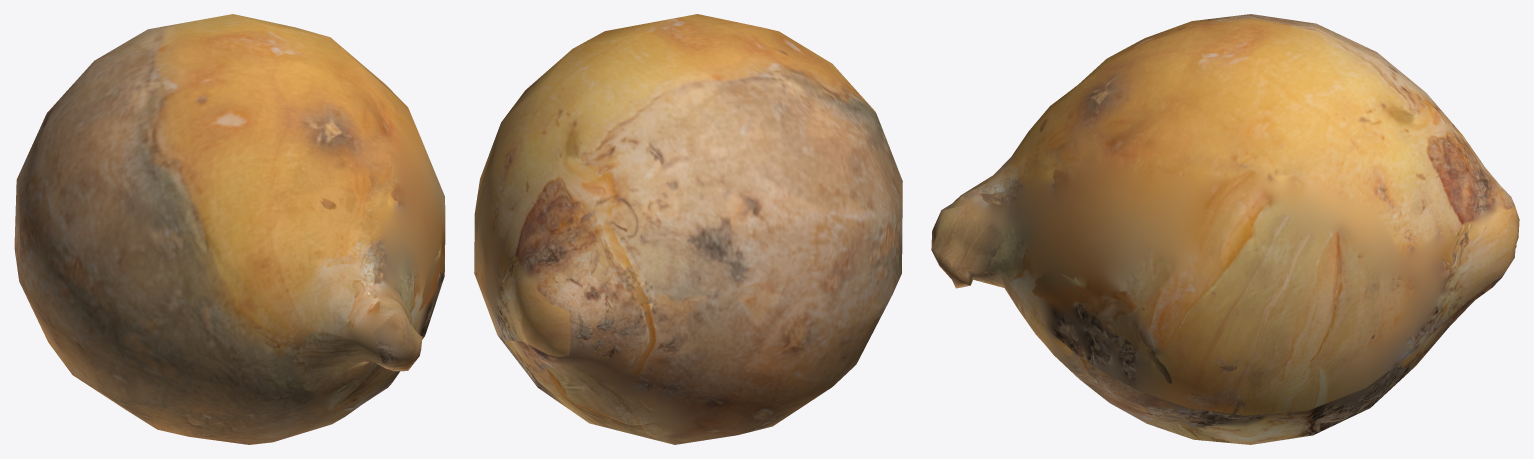
The picture shows the model from 3 angles, left to right: view 1: azimuth 30°, elevation 25°; view 2: azimuth 150°, elevation 25°; view 3: azimuth 270°, elevation 25°; orthographic projection.
Size of the model in its own units: 0.7274 by 0.7204 by 1.
